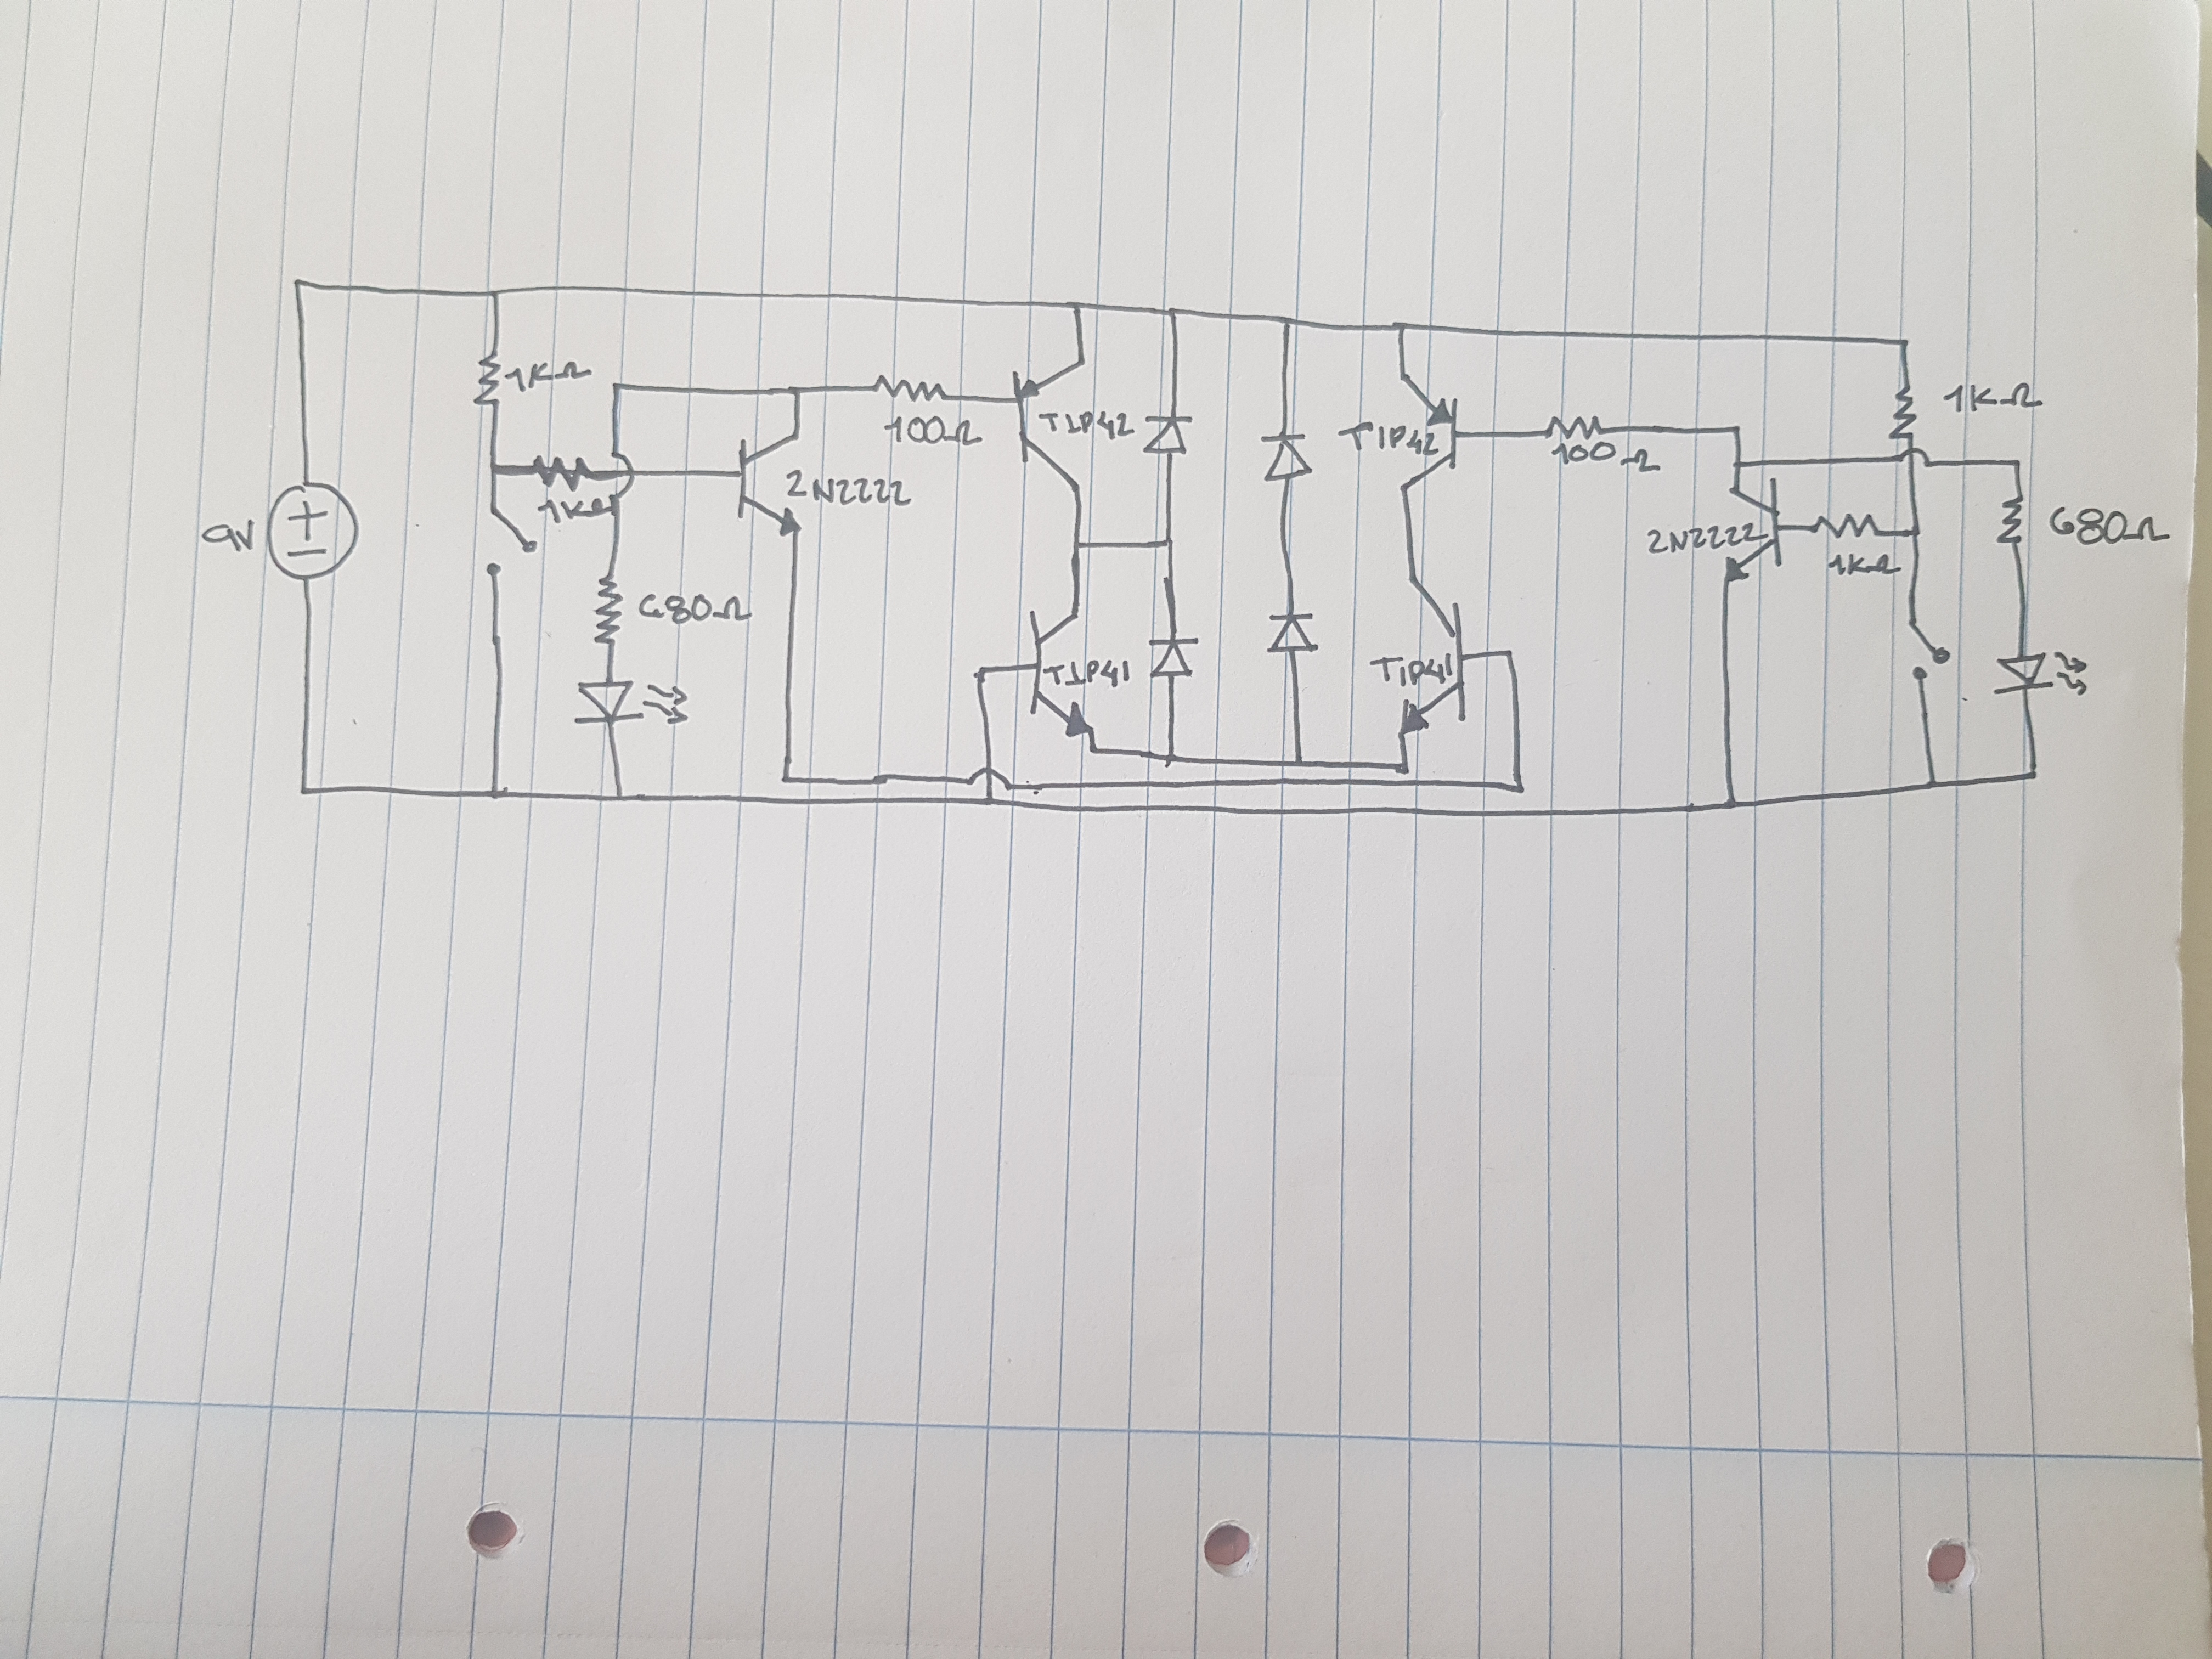crossover: (606, 448, 634, 504), (967, 763, 1012, 795), (1893, 448, 1933, 469)
diode: (1254, 429, 1320, 484), (1143, 631, 1205, 685), (1136, 410, 1197, 460), (1264, 608, 1320, 659)
diode.light_emitting: (568, 673, 691, 732), (1987, 650, 2101, 699)
junction: (284, 267, 312, 295), (1501, 772, 1527, 800), (479, 782, 509, 807), (291, 772, 312, 805), (1064, 295, 1089, 321), (1163, 301, 1186, 328), (1277, 310, 1299, 335), (1918, 772, 1942, 795), (606, 376, 629, 399), (608, 788, 631, 809), (1723, 795, 1745, 816), (974, 660, 993, 685), (775, 767, 796, 788), (1728, 458, 1754, 474), (1393, 756, 1413, 777), (1392, 319, 1411, 340), (2008, 453, 2029, 472), (1500, 643, 1519, 662), (486, 460, 503, 481), (787, 383, 808, 401), (1289, 753, 1310, 770), (1905, 523, 1926, 540), (1160, 748, 1177, 767), (1895, 333, 1912, 352), (486, 284, 503, 301), (1158, 532, 1174, 551), (1726, 422, 1745, 437), (981, 795, 998, 810), (1069, 535, 1085, 552), (2024, 767, 2040, 784)
resistor: (862, 368, 949, 410), (526, 446, 596, 497), (1803, 509, 1883, 544), (592, 572, 625, 653), (463, 347, 505, 411), (1540, 410, 1613, 446), (1886, 382, 1923, 446), (1996, 490, 2033, 554)
switch: (1895, 608, 1956, 690), (481, 504, 542, 582)
text: (780, 464, 913, 511), (2047, 504, 2161, 551), (1334, 420, 1444, 462), (1648, 519, 1771, 554), (631, 589, 754, 624), (1547, 439, 1662, 476), (1038, 408, 1137, 443), (1367, 653, 1456, 690), (880, 416, 981, 448), (1043, 657, 1132, 692), (502, 359, 594, 392), (1940, 378, 2041, 408), (1825, 551, 1902, 579), (204, 521, 260, 559), (535, 498, 606, 525)
transistor: (1399, 575, 1479, 737), (1005, 352, 1092, 493), (1024, 599, 1099, 739), (1390, 368, 1463, 497), (1716, 474, 1789, 598), (730, 430, 806, 540)
voltage.dc: (263, 477, 364, 584)
